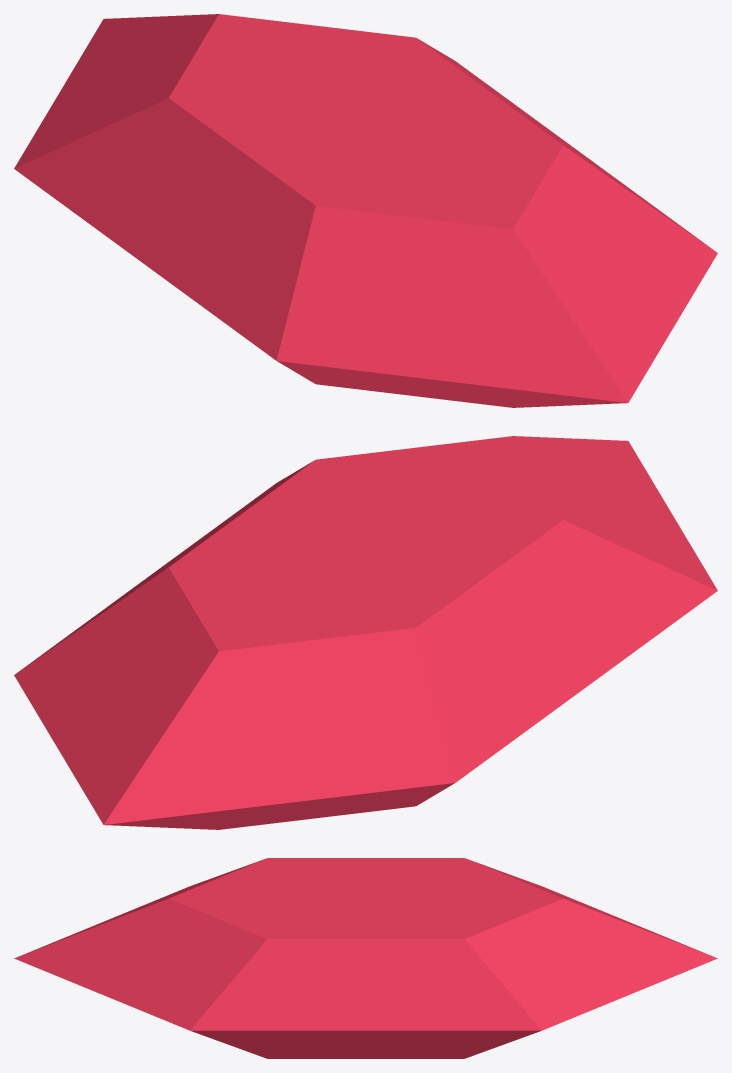
Rendered from gem.fbx.
The picture shows the model from 3 angles, top to bottom: view 1: azimuth 30°, elevation 25°; view 2: azimuth 150°, elevation 25°; view 3: azimuth 270°, elevation 25°; orthographic projection. The views are drawn at different scales.
Parts seen in each view (by area): view 1: Gem; view 2: Gem; view 3: Gem.
Boxes of the visible parts, x1,y1,x2,y2 form: Gem: (14,14,717,407); Gem: (14,436,717,829); Gem: (14,858,717,1058).
Bounding box in the file's own units: 58.74 × 22.7 × 121.
